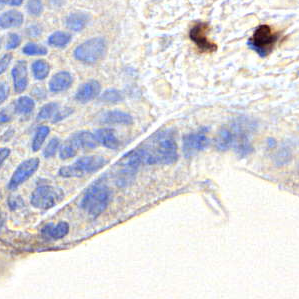Lymphocyte: (250, 23, 279, 53)
